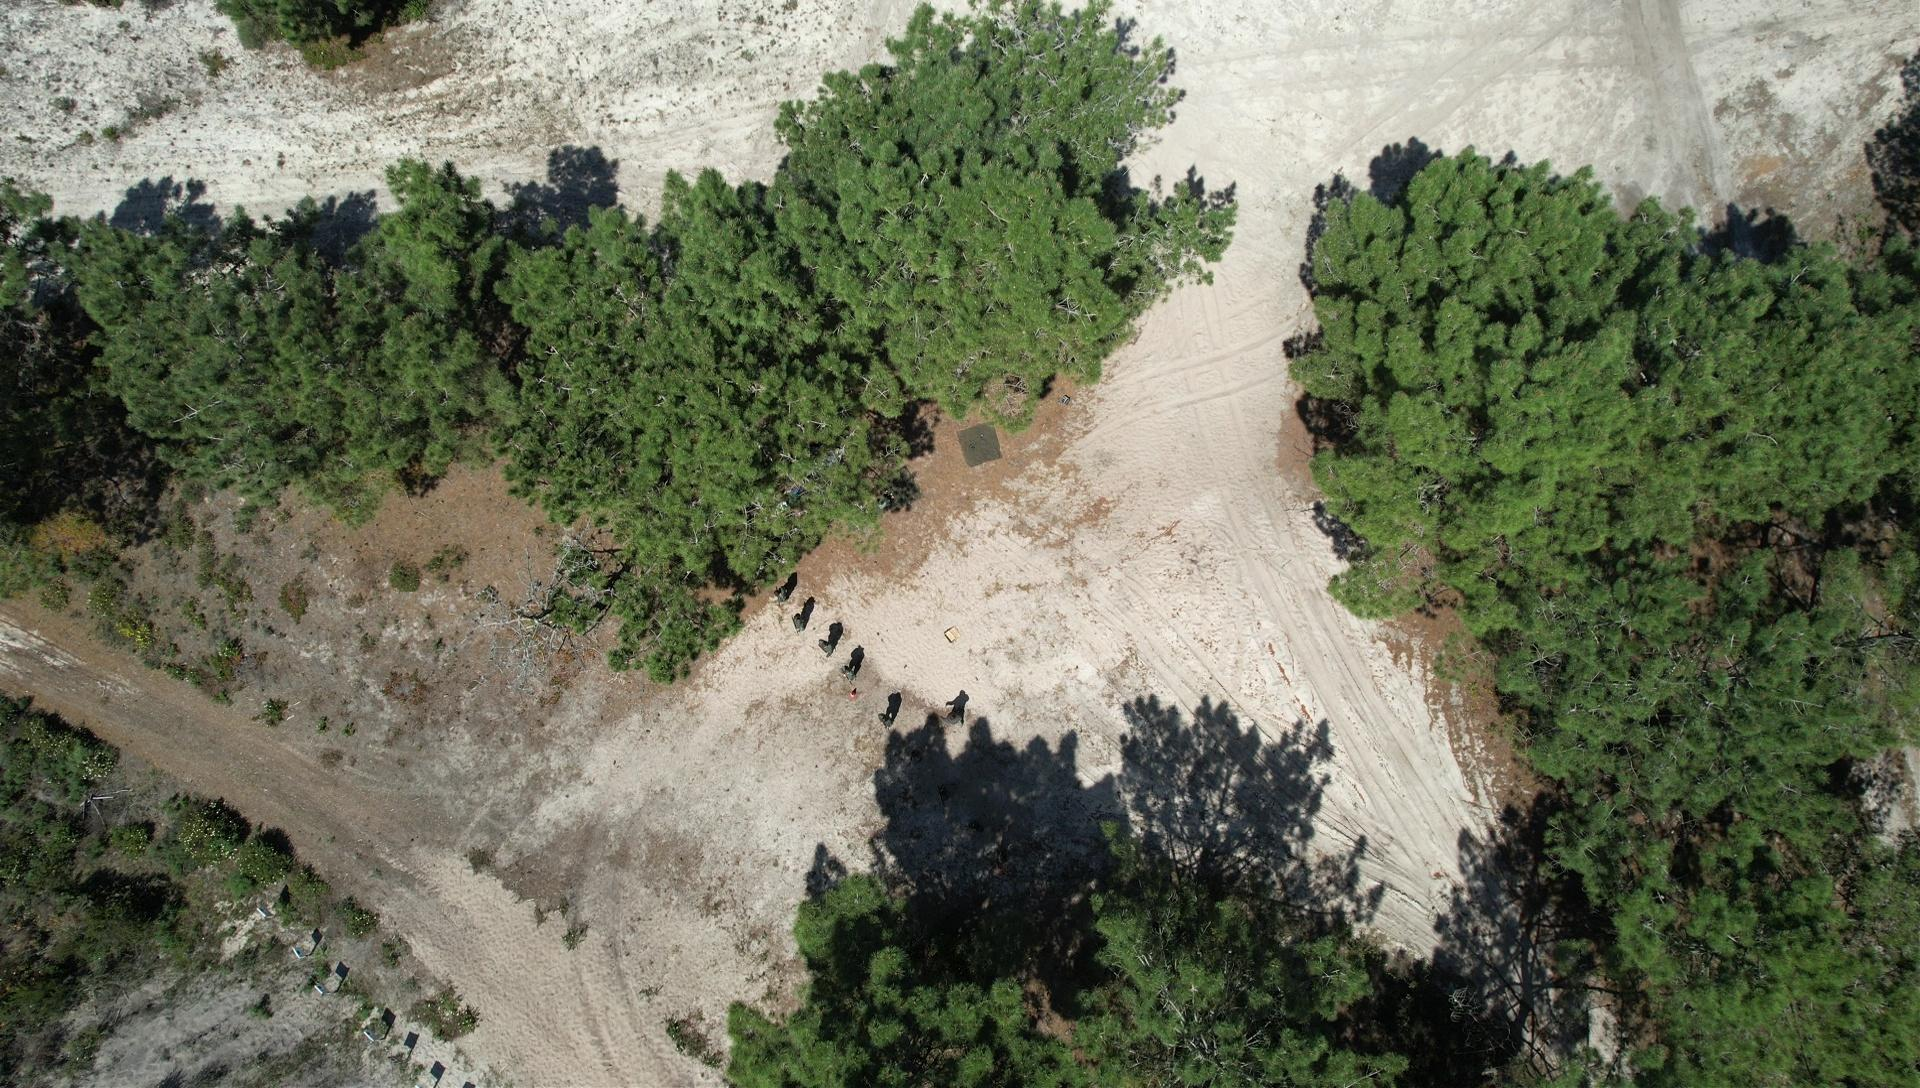Soldier: (909, 740, 930, 773), (840, 659, 865, 684), (936, 708, 964, 731), (773, 582, 795, 605), (876, 711, 899, 733), (938, 779, 955, 807), (967, 818, 988, 839), (793, 609, 810, 630), (822, 637, 837, 655)
